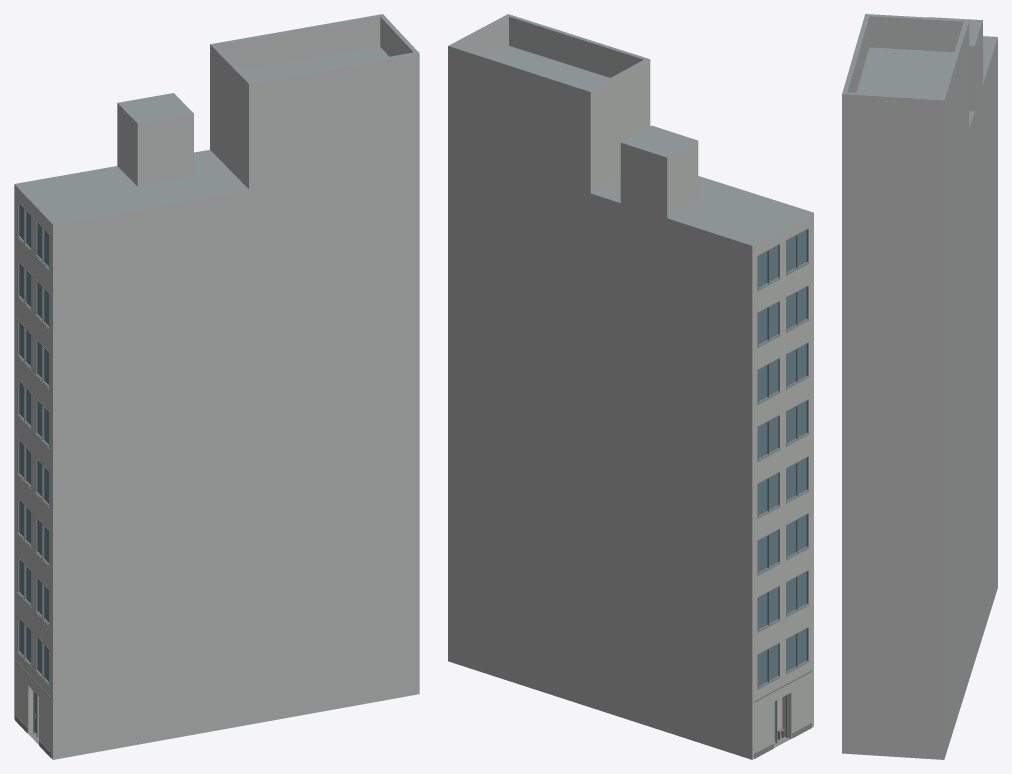
3 renders of one model, left to right at view 1: azimuth 30°, elevation 25°; view 2: azimuth 150°, elevation 25°; view 3: azimuth 270°, elevation 25°, orthographic. The views are drawn at different scales.
Visible parts, largest first — view 1: Inferred warm gray mineral wall; view 2: Inferred warm gray mineral wall; view 3: Inferred warm gray mineral wall.
Part boxes in pixels (x1,y1,x2,y2): Inferred warm gray mineral wall: (14, 14, 419, 759); Inferred warm gray mineral wall: (448, 14, 813, 759); Inferred warm gray mineral wall: (842, 14, 997, 759).
Bounding box in the file's own units: 21.99 × 37.89 × 8.11.
1 material, 1 textured.
